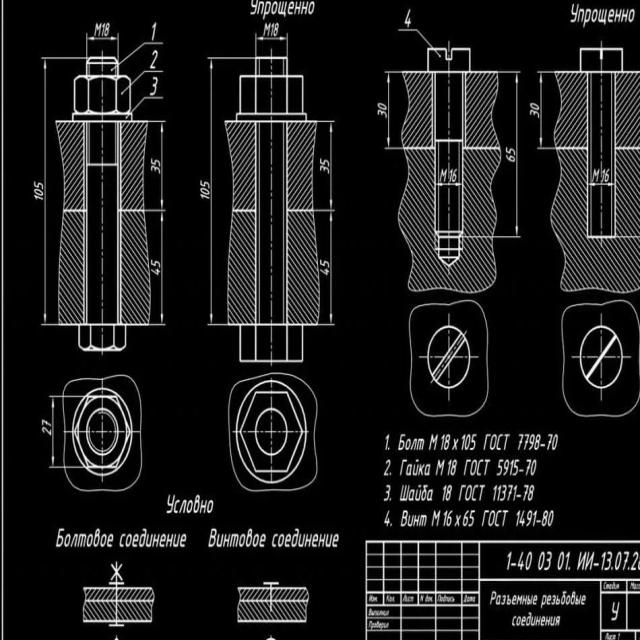marking_line: (42, 60, 48, 323), (328, 122, 335, 324), (208, 60, 213, 321), (159, 211, 165, 321), (515, 74, 519, 235), (384, 73, 392, 149), (50, 398, 57, 470), (538, 75, 544, 147), (160, 125, 164, 210), (87, 35, 119, 44), (258, 34, 286, 42)
numeric: (491, 483, 519, 502), (496, 459, 523, 478), (516, 432, 540, 452), (195, 176, 212, 203), (460, 431, 479, 454), (536, 550, 553, 574), (614, 548, 628, 574), (517, 509, 536, 528), (518, 550, 534, 572), (593, 165, 611, 184), (32, 179, 45, 205), (546, 430, 561, 452), (541, 507, 556, 529), (600, 549, 612, 575), (441, 168, 459, 185), (525, 458, 538, 480), (438, 433, 452, 453), (317, 153, 330, 174), (148, 49, 161, 70), (462, 507, 474, 529), (439, 483, 453, 501), (148, 157, 161, 176), (503, 146, 516, 165), (149, 23, 162, 42), (522, 484, 535, 503), (148, 73, 159, 95), (150, 258, 162, 278), (630, 549, 640, 573), (529, 100, 539, 123), (402, 9, 414, 28), (319, 259, 330, 278), (40, 419, 53, 435), (504, 548, 513, 571), (447, 459, 458, 477), (443, 509, 452, 529), (271, 21, 281, 38), (376, 104, 388, 118), (101, 24, 111, 38)
